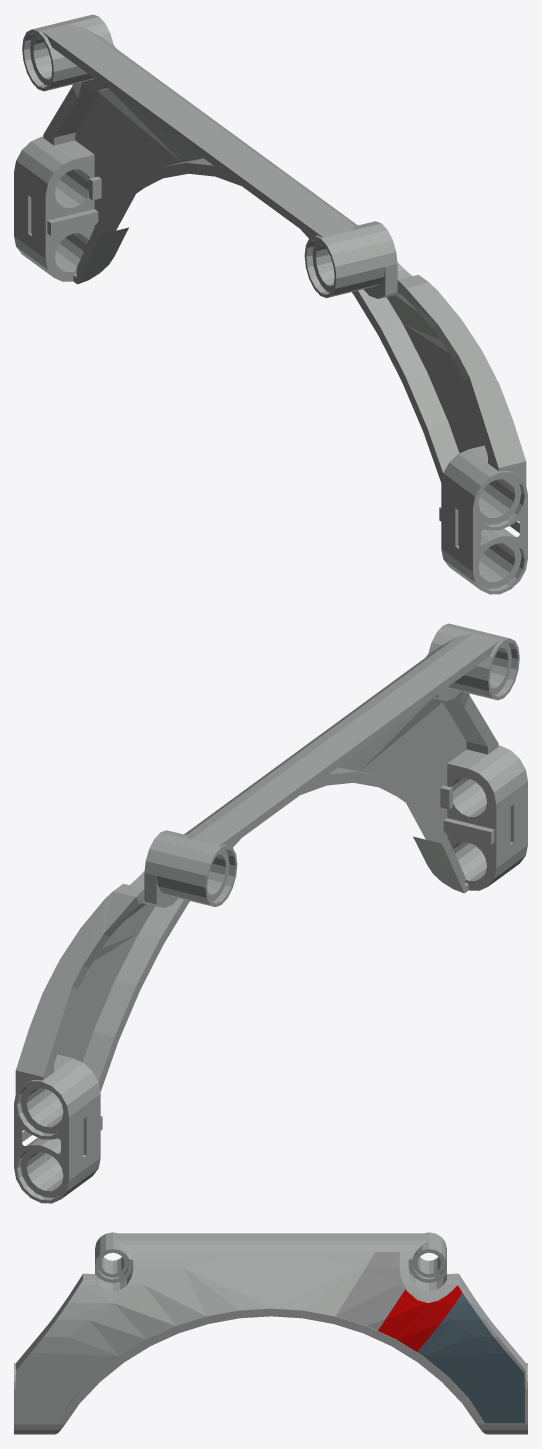
3 views of the same model, one above another, from view 1: azimuth 30°, elevation 25°; view 2: azimuth 150°, elevation 25°; view 3: azimuth 270°, elevation 25° (orthographic). The views are drawn at different scales.
Visible parts, largest first — view 1: world; view 2: world; view 3: world.
Part boxes in pixels (x1,y1,x2,y2): world: [14, 14, 527, 594]; world: [14, 623, 527, 1203]; world: [14, 1232, 527, 1434].
Bounding box in the file's own units: 0.0158 × 0.0392 × 0.104.
